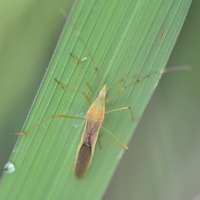insect: (12, 53, 150, 178)
